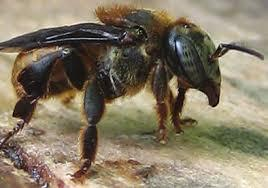Meliponula: (2, 0, 249, 149)
